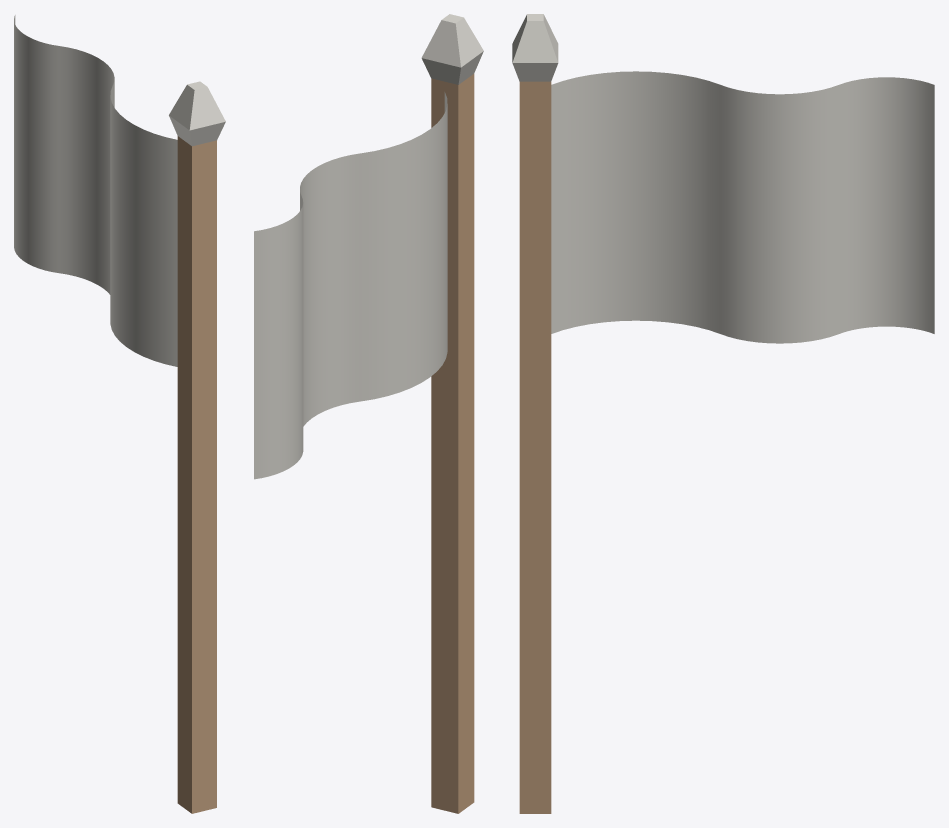
File: flagWhiteWide.fbx
The picture shows the model from 3 angles, left to right: view 1: azimuth 30°, elevation 25°; view 2: azimuth 150°, elevation 25°; view 3: azimuth 270°, elevation 25°; orthographic projection. The views are drawn at different scales.
Parts seen in each view (by area): view 1: Group 290, flagWhiteWide; view 2: Group 290, flagWhiteWide; view 3: Group 290, flagWhiteWide.
Boxes of the visible parts, x1=… form: Group 290: x1=14, y1=15, x2=177, y2=366; flagWhiteWide: x1=169, y1=81, x2=225, y2=813; Group 290: x1=254, y1=92, x2=447, y2=479; flagWhiteWide: x1=421, y1=14, x2=483, y2=813; Group 290: x1=551, y1=71, x2=934, y2=343; flagWhiteWide: x1=512, y1=14, x2=558, y2=813.
Size of the model in its own units: 0.4988 by 7.92 by 3.84.
